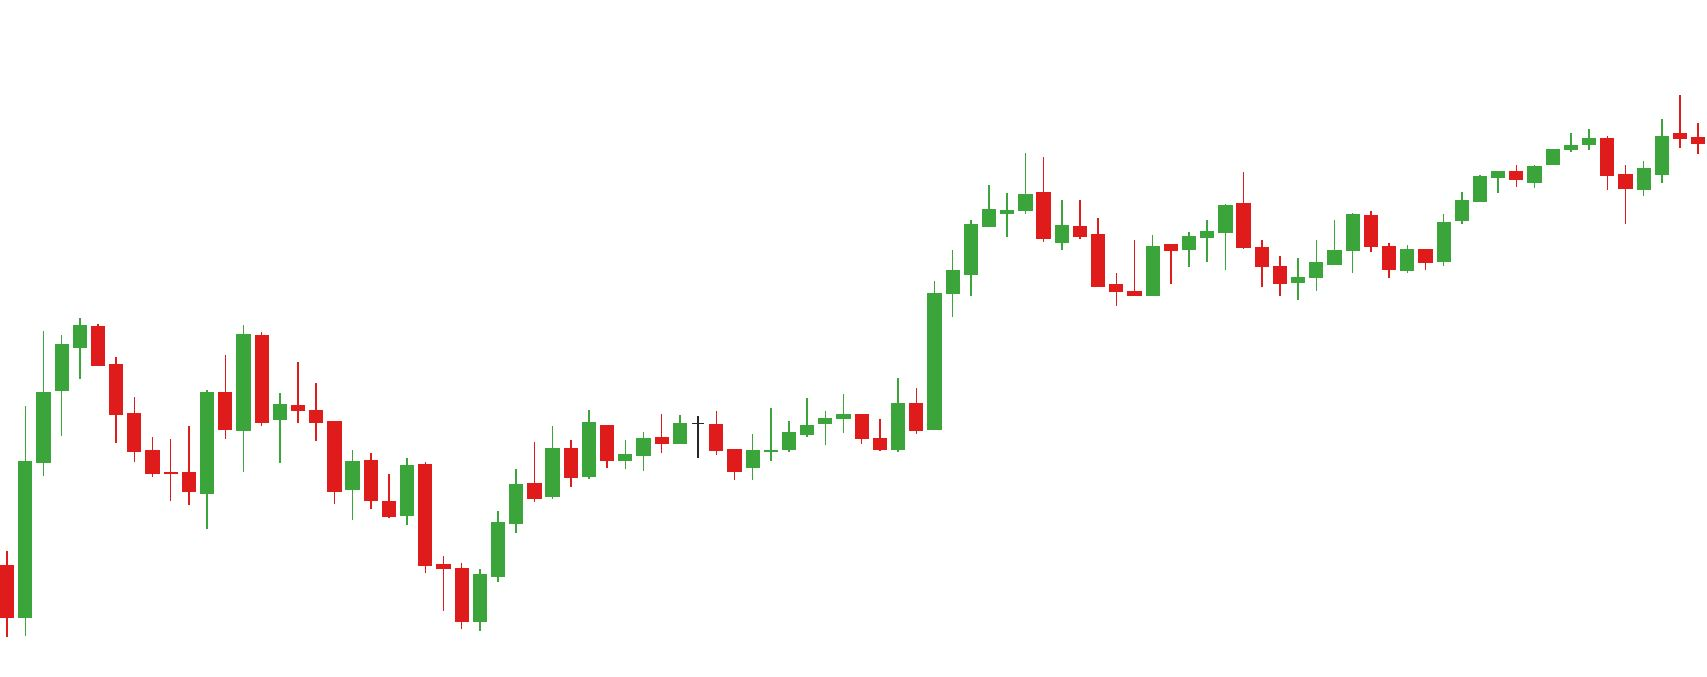sell: (1584, 94, 1687, 170)
